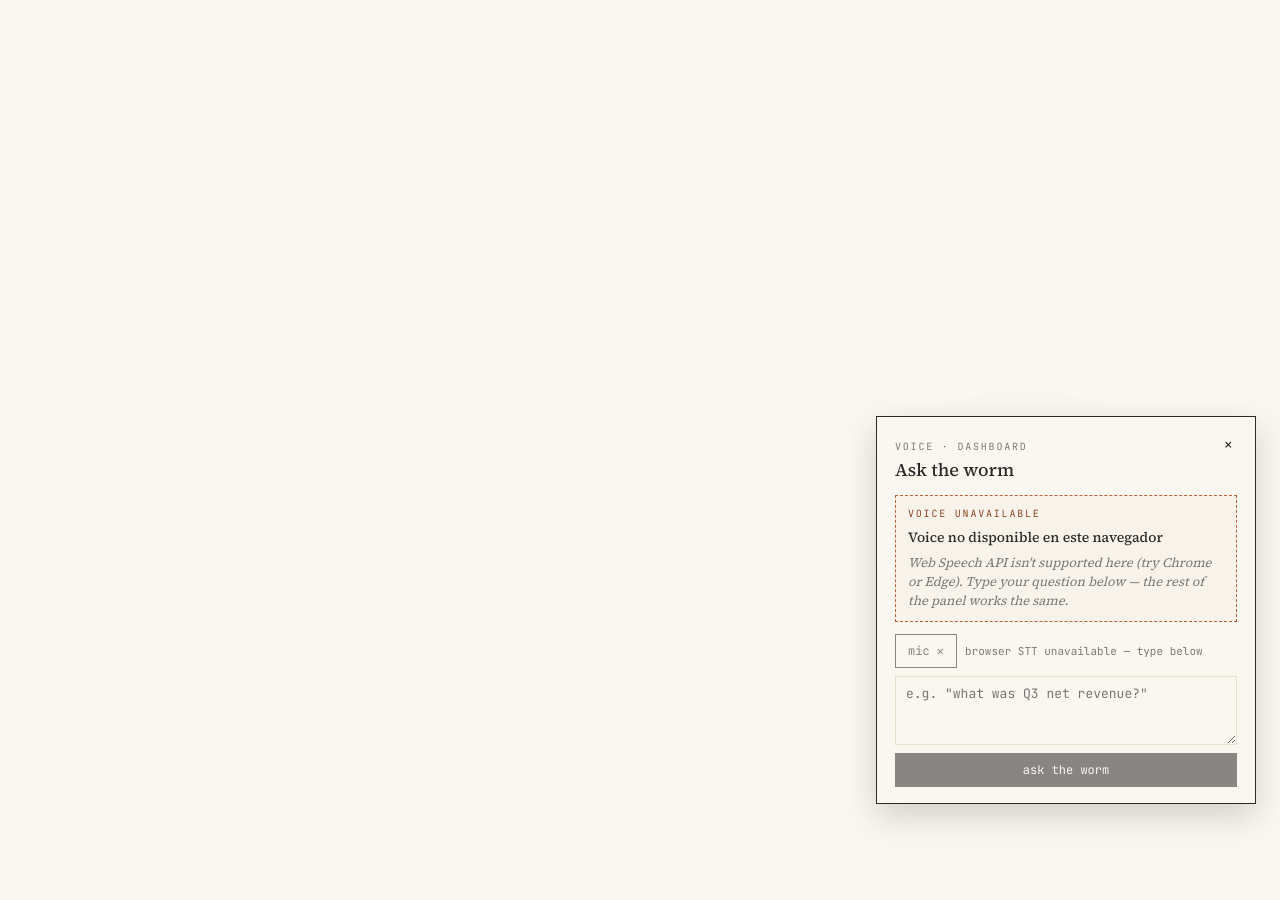
Scenario: VoicePanel — speech-API graceful degradation › falls back to chat_sent citation kind when no KPI hit (P13)
Type "hi worm" into the text box with test id "voice-transcript" at (1066, 710), box left=895, top=676, right=1237, bottom=745
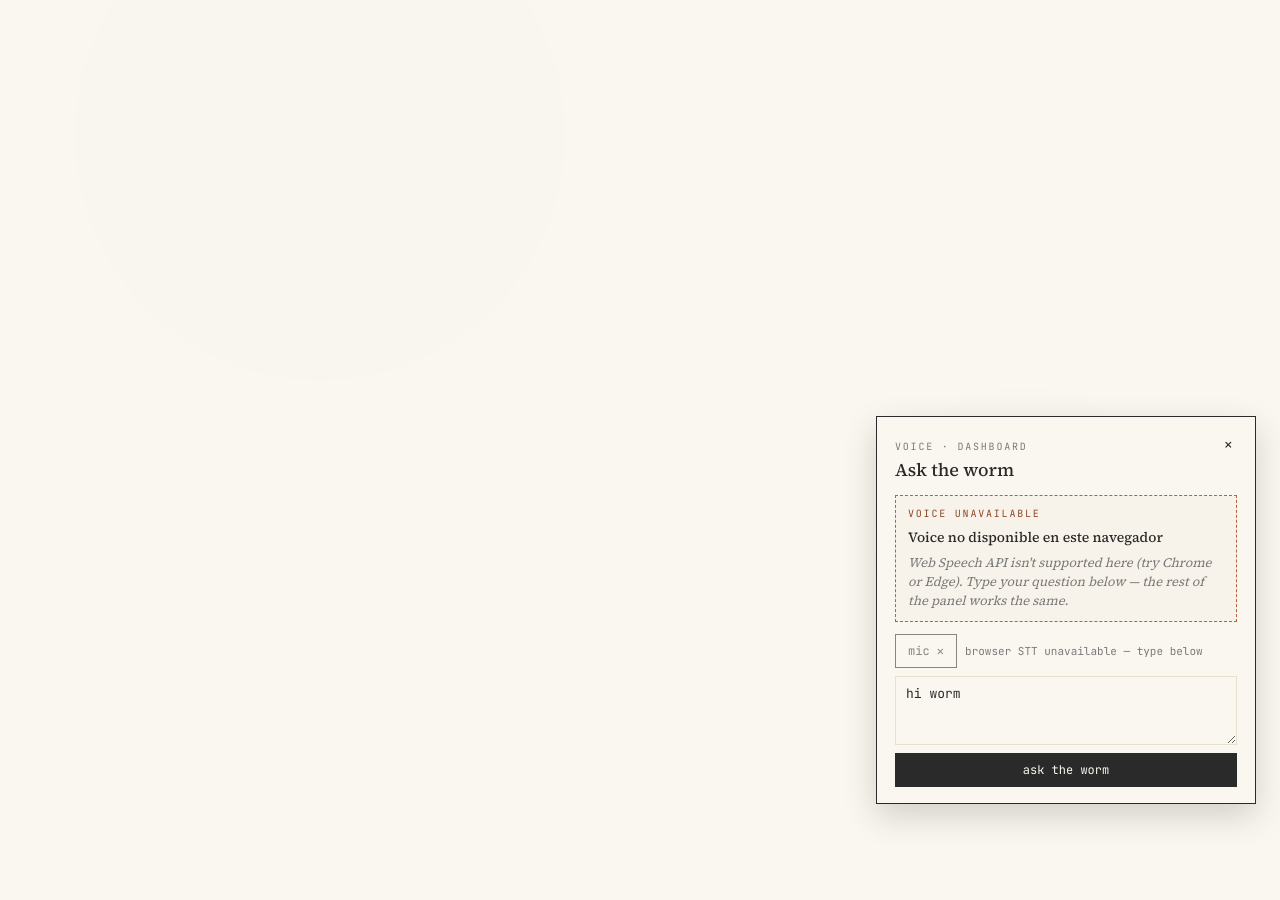
Click the button with test id "voice-submit" at (1066, 770), box left=895, top=753, right=1237, bottom=787
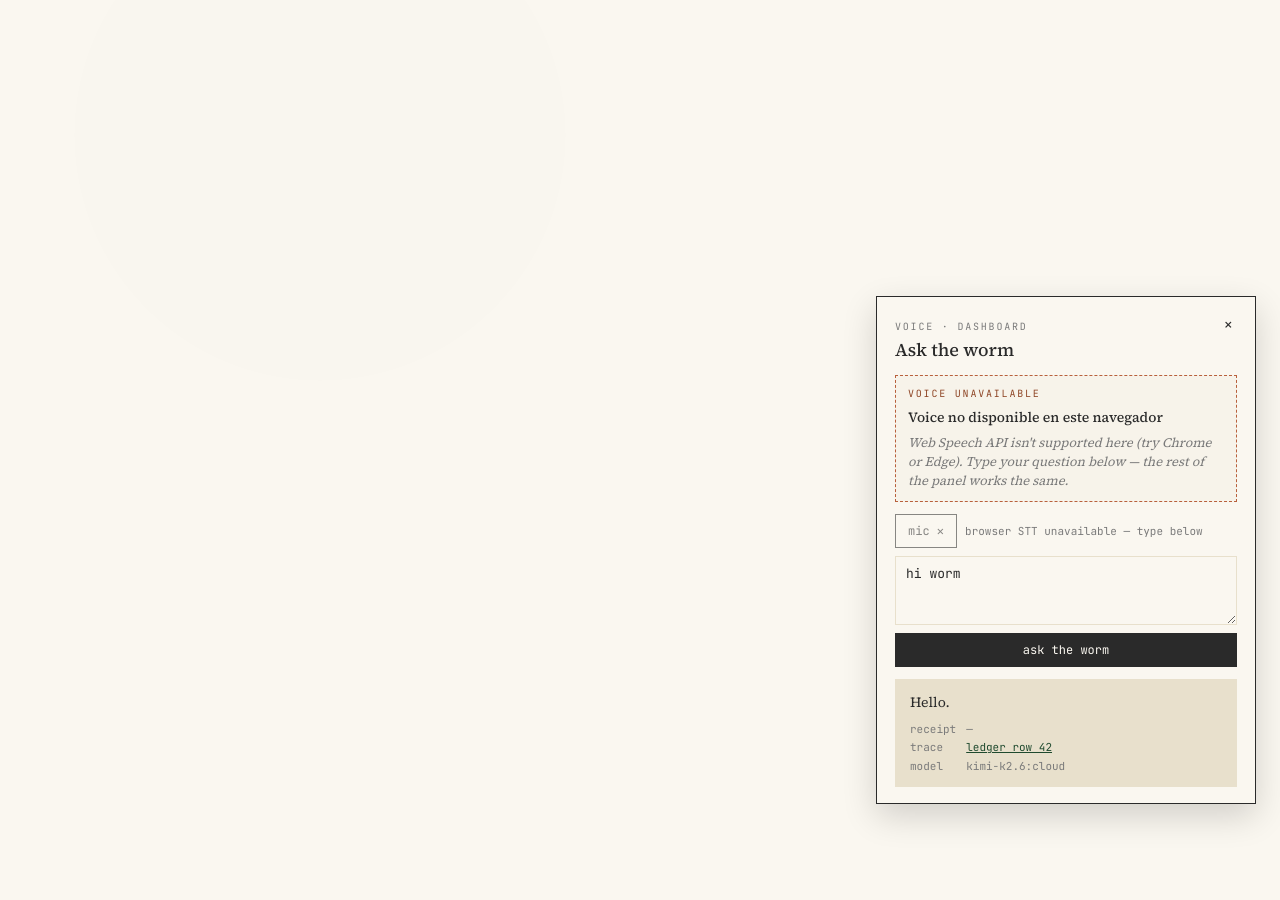
Expected: the element with test id "voice-answer" is shown, left=895, top=678, right=1237, bottom=787
